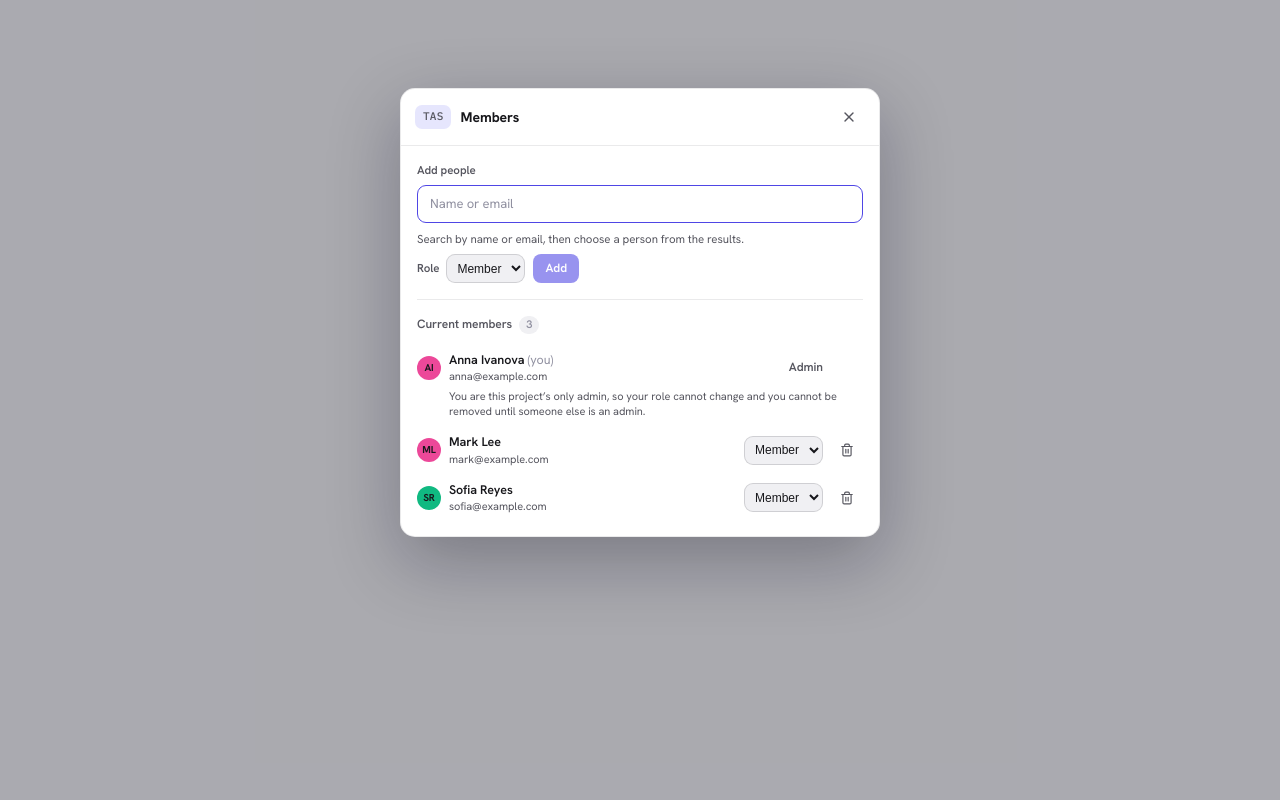
Test: ProjectMembersModal › brings the search back with its results when the choice is undone
This screenshot has width=1280, height=800.
Check: the text "Mark Lee" is shown, box [449,433,501,450]
Type "priya" into the dropdown labelled "Add people" at point(640, 204), box [417,185,863,223]
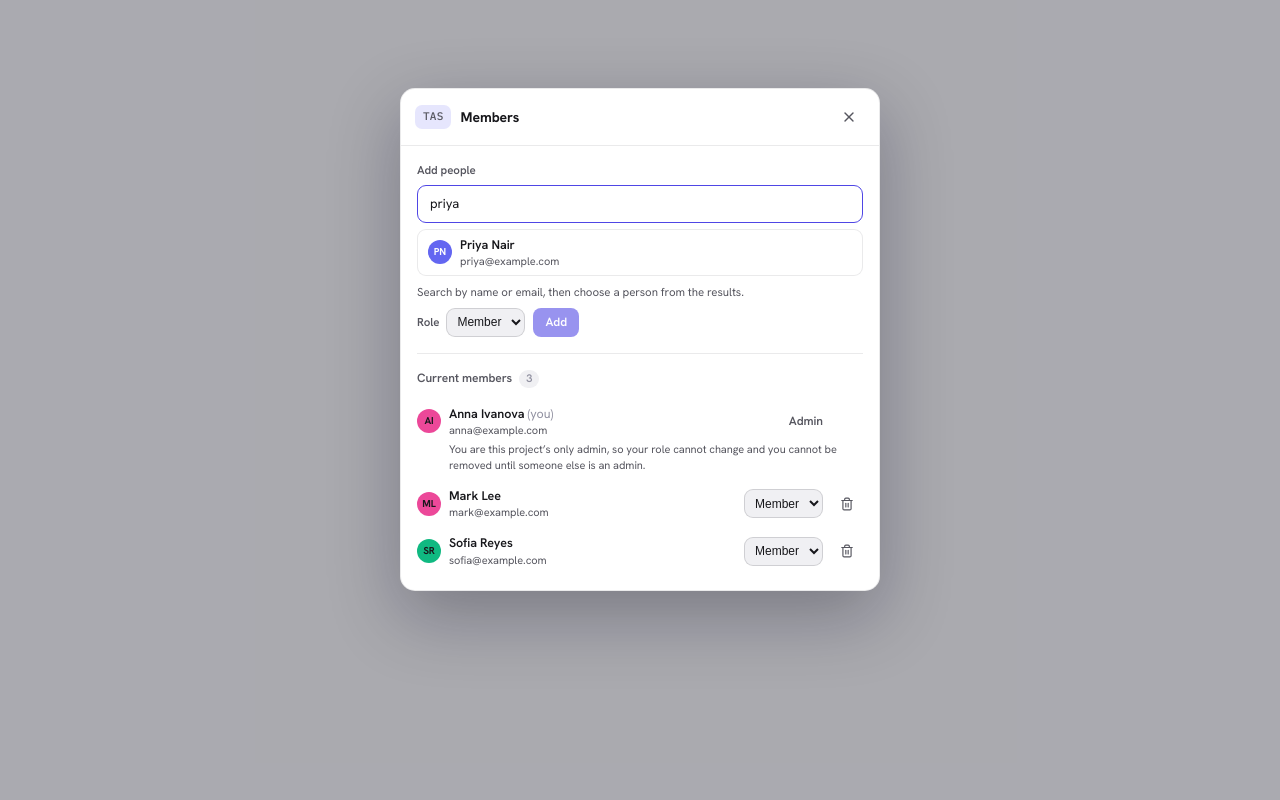
Click the option "PN Priya Nair priya@example.com" at point(494, 252), box [428,236,559,268]
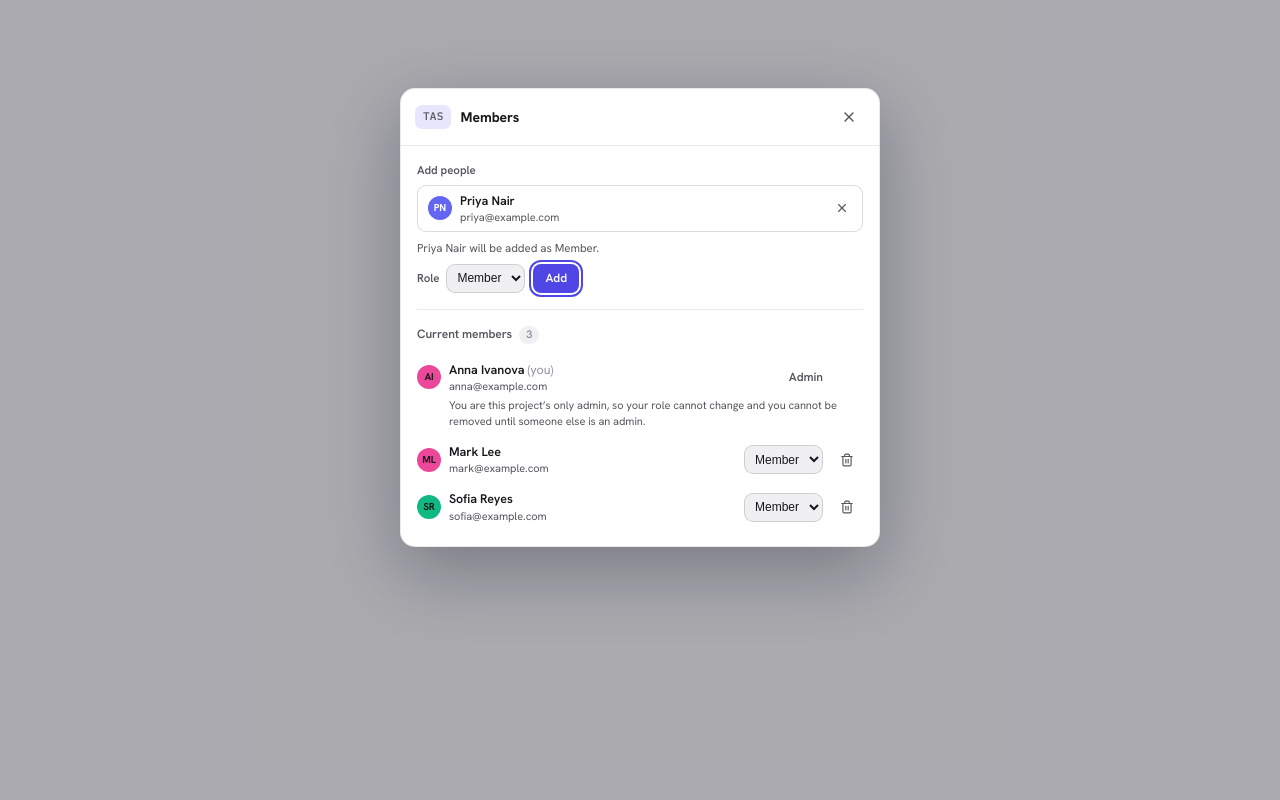
Click the button named "Choose someone else" at point(842, 208), box [828,194,856,222]
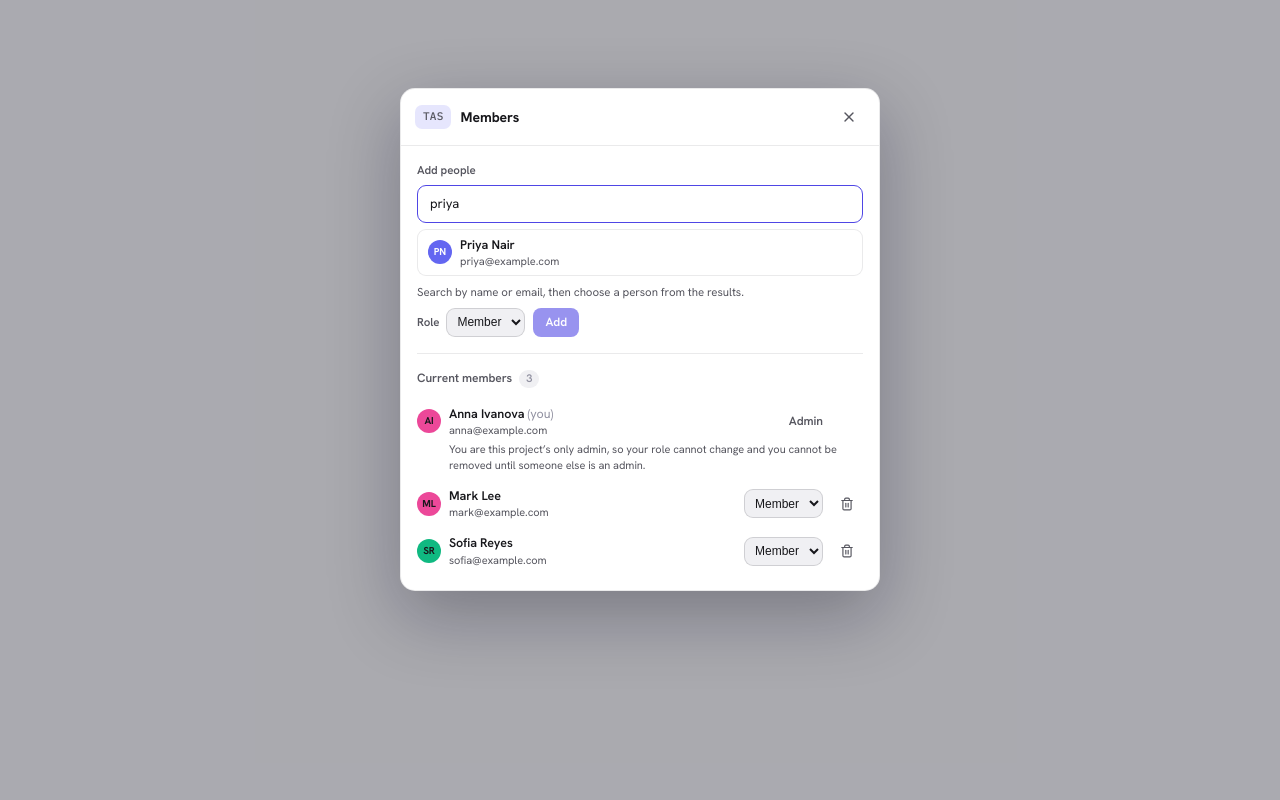
Check: the option "PN Priya Nair priya@example.com" is shown, box [428,236,559,268]
Check: the dropdown labelled "Add people" holds "priya", box [417,185,863,223]
